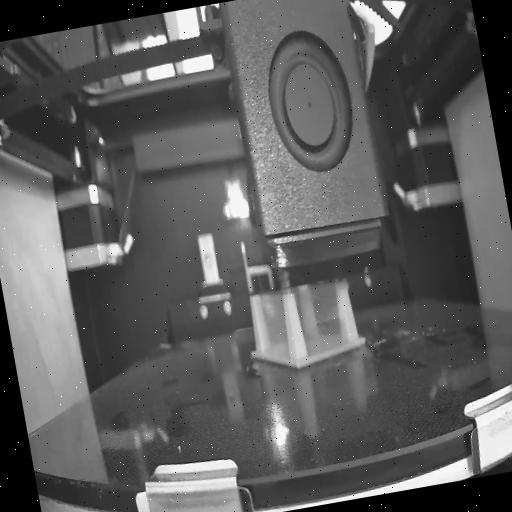stringing: (290, 270, 352, 360), (252, 286, 292, 364)
